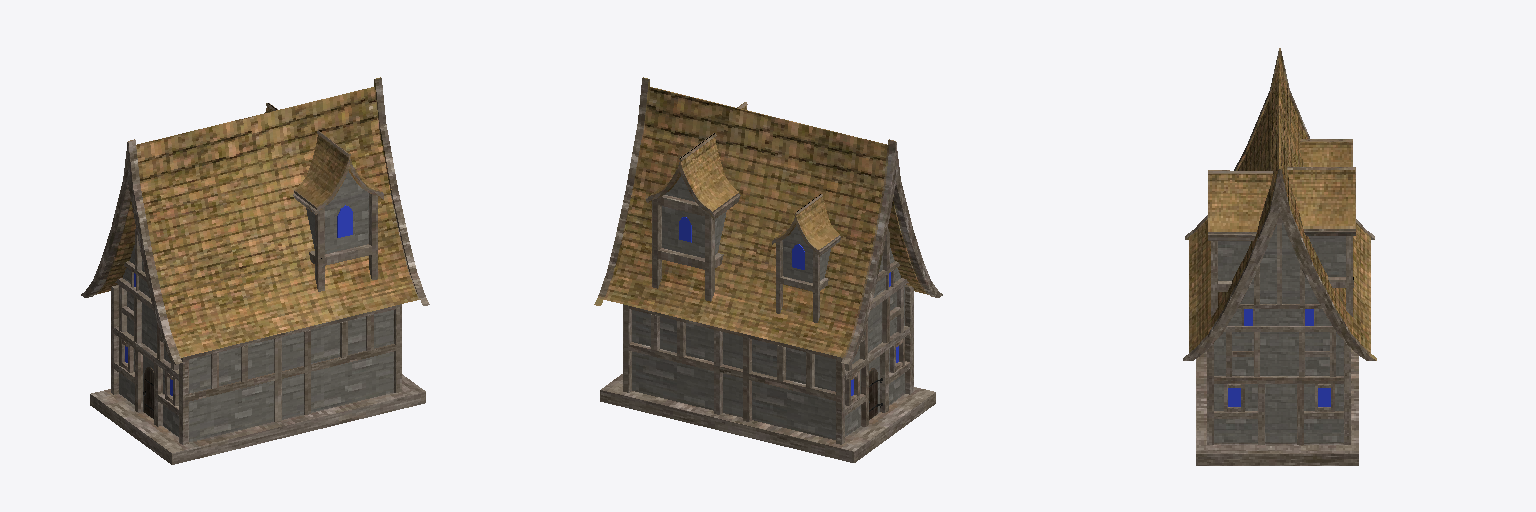
3 renders of one model, left to right at view 1: azimuth 30°, elevation 25°; view 2: azimuth 150°, elevation 25°; view 3: azimuth 270°, elevation 25°, orthographic.
Parts seen in each view (by area): view 1: Cube.005; view 2: Cube.005; view 3: Cube.005.
Part boxes in pixels (left/top/right/bottom): Cube.005: left=81, top=77, right=429, bottom=464; Cube.005: left=594, top=77, right=942, bottom=462; Cube.005: left=1183, top=48, right=1376, bottom=465.
Bounding box in the file's own units: 5.84 × 6.44 × 3.83.
3 materials, 1 textured.